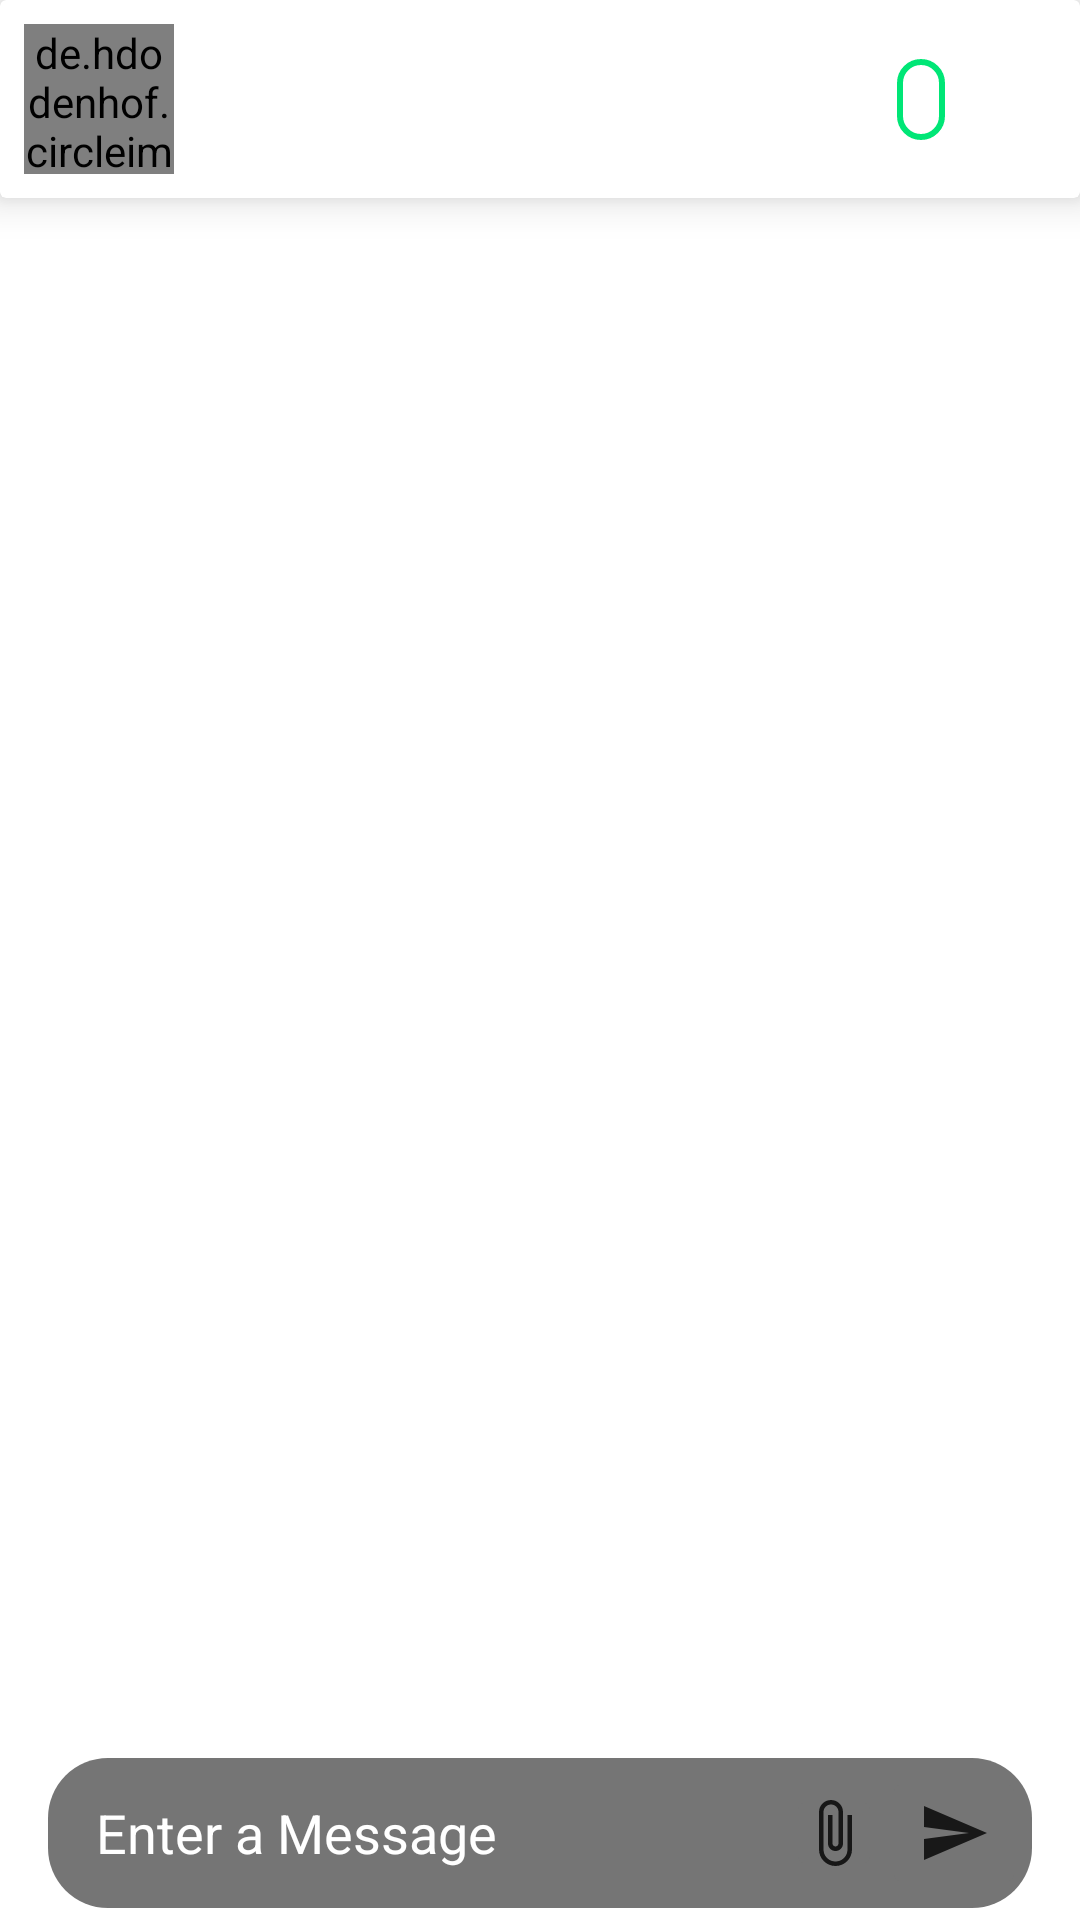

Icon bounding boxes for this 1080px×1920px phone screenshot, format (x1,y1,x2,y2):
attach: (819,1800,852,1866)
send: (924,1806,986,1860)
